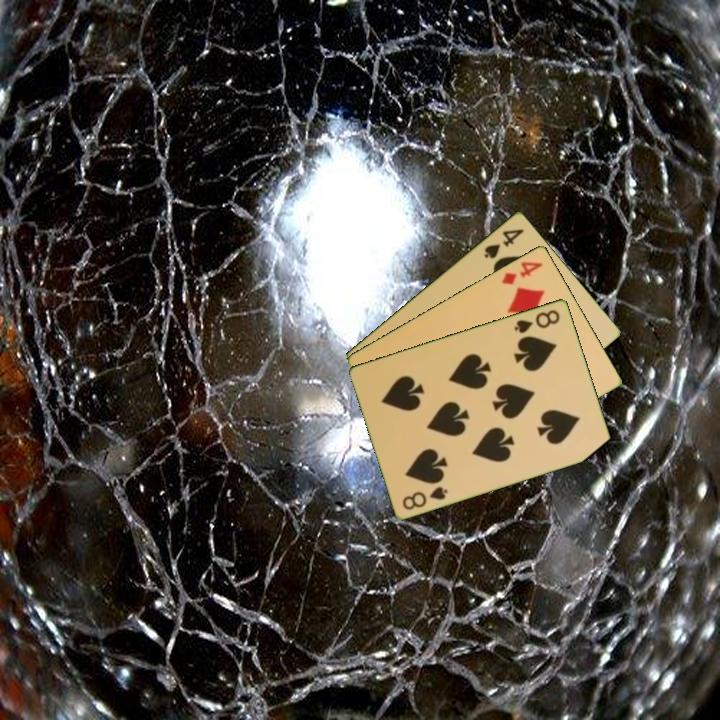4d: (498, 257, 546, 287)
4s: (480, 225, 527, 261)
8s: (399, 482, 451, 513), (511, 306, 563, 336)
